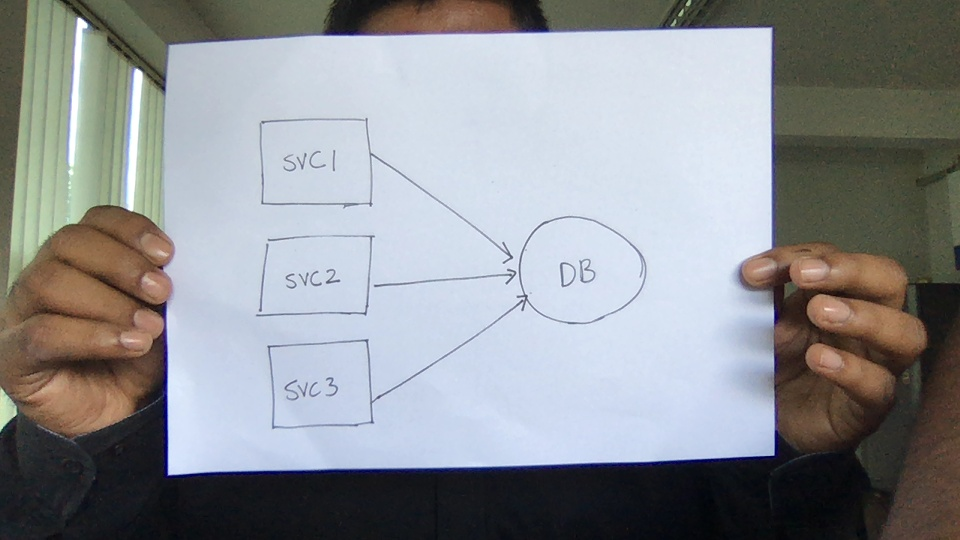db: (513, 213, 651, 329)
ec2: (254, 113, 378, 213), (253, 225, 377, 325), (260, 335, 384, 435)
